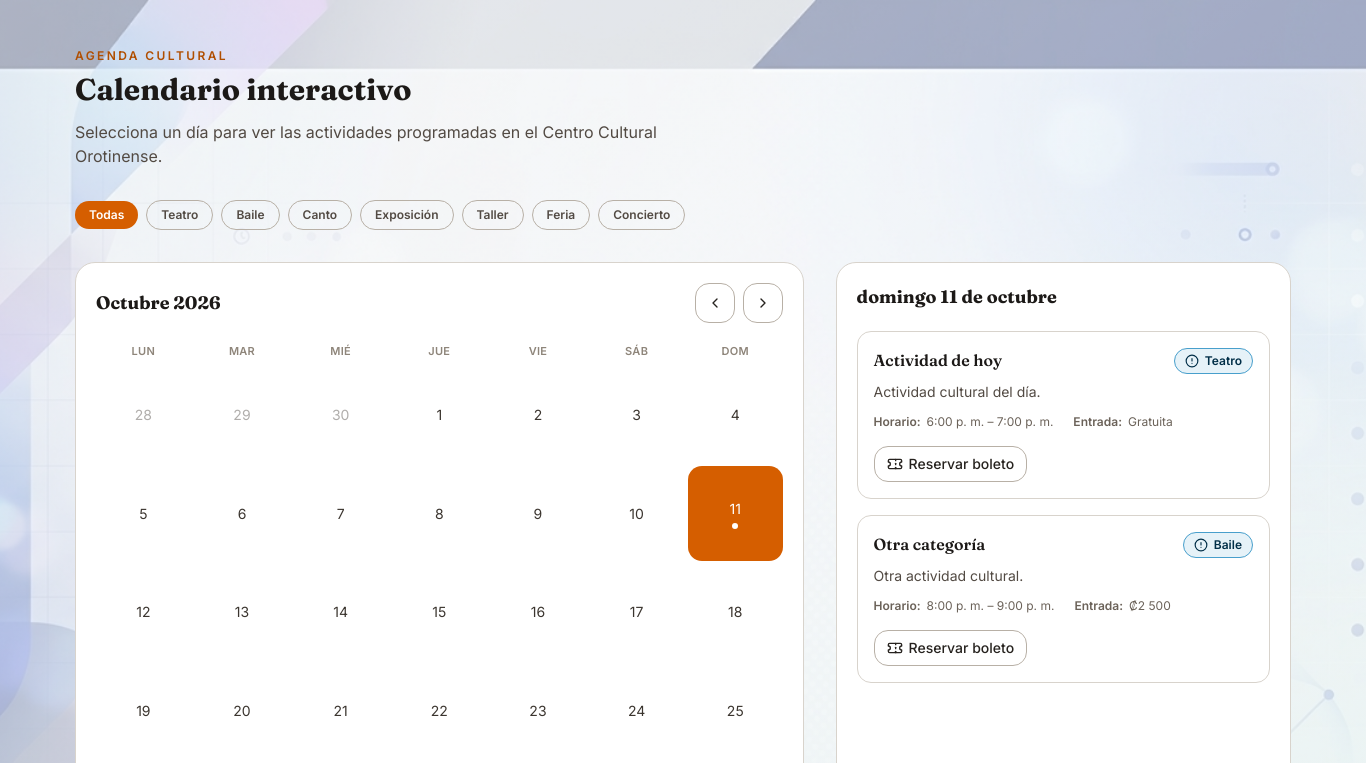
Scenario: Calendario › navigates between months and selects a day without activities
Click the button named "Mes siguiente" at (763, 303), box top-left (743, 283), bottom-right (783, 323)
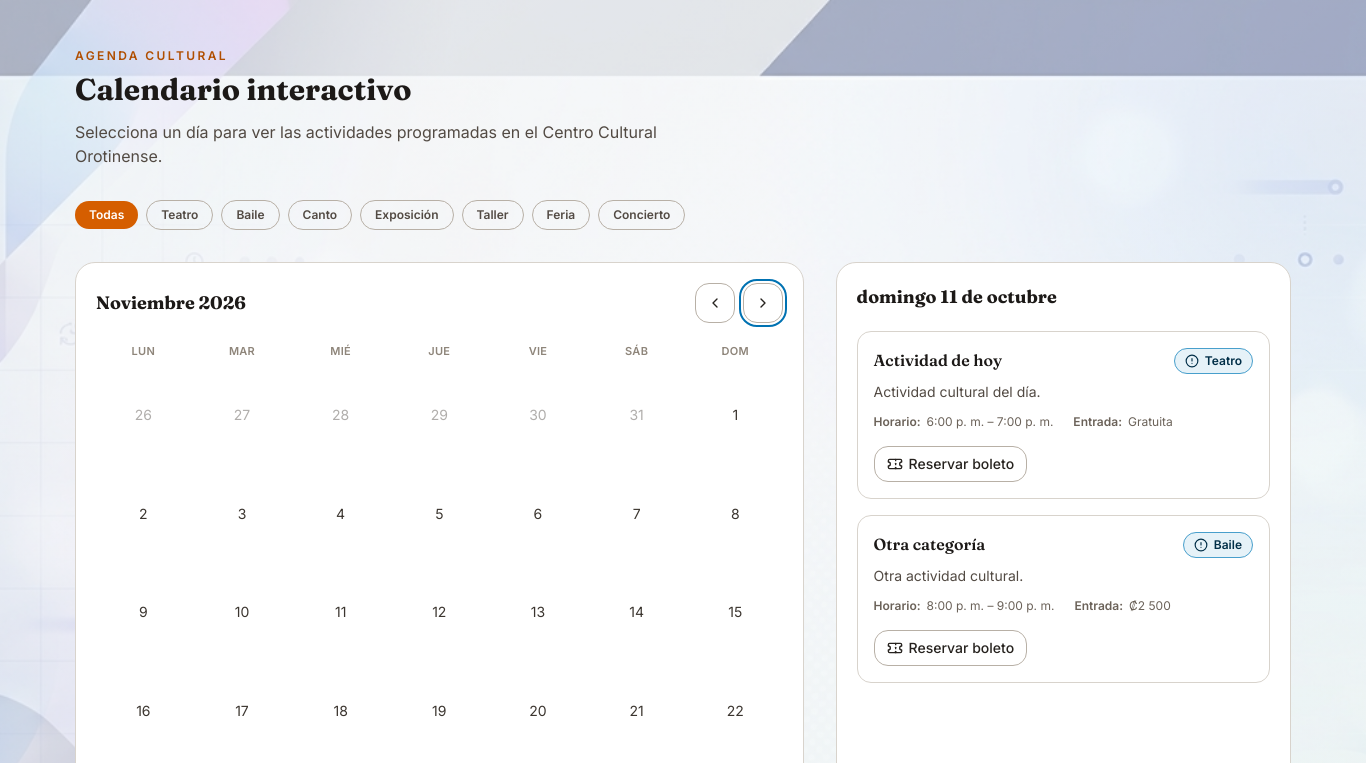
Click the button named "15 de" at (735, 612), box top-left (688, 565), bottom-right (783, 660)
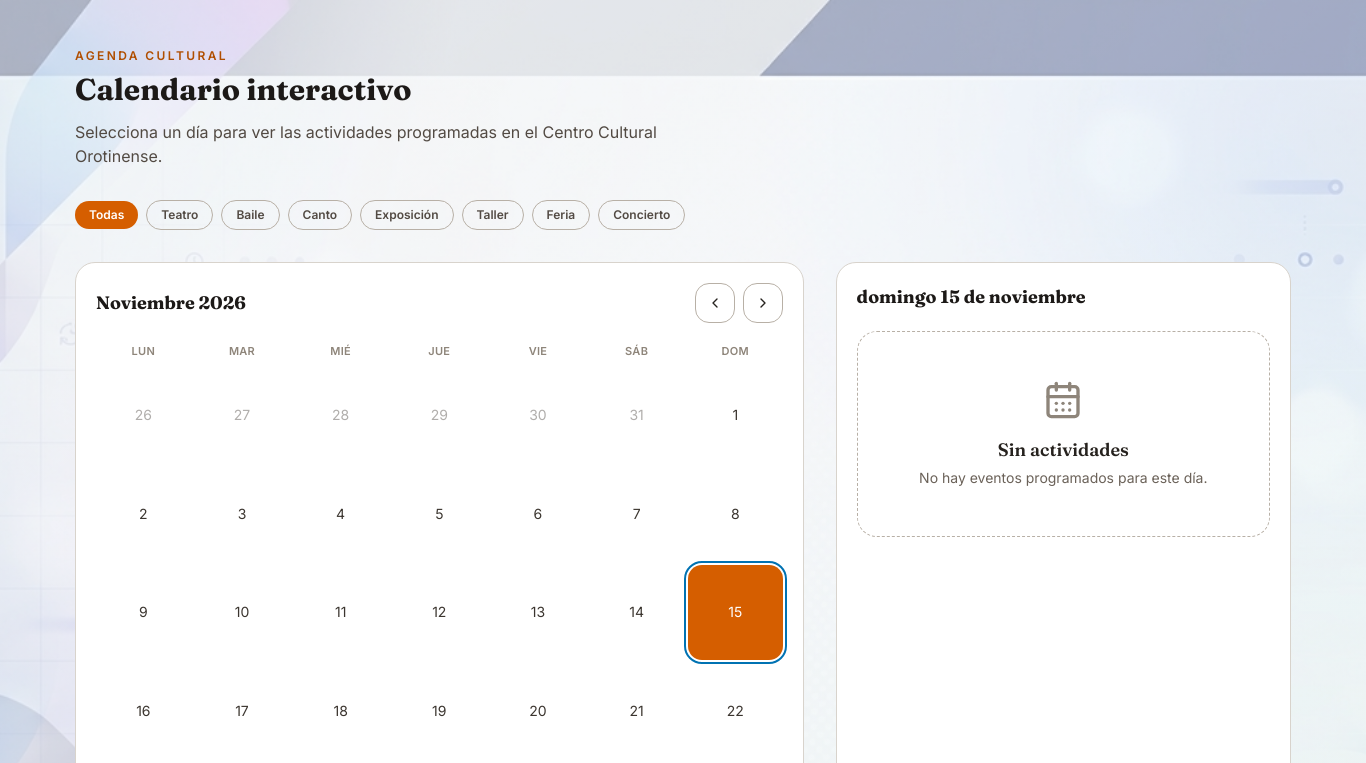
Expected: the heading "Sin actividades" is shown, top-left (998, 436), bottom-right (1129, 464)
